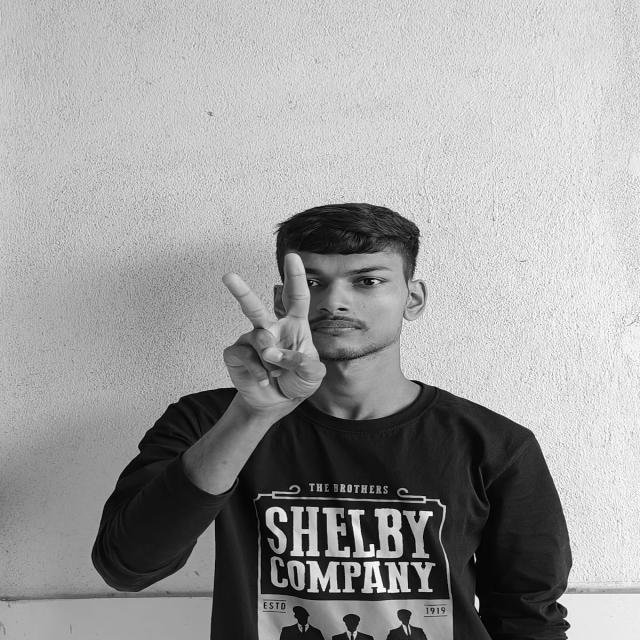Victory: (219, 249, 334, 414)
